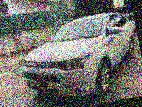car: (8, 3, 142, 107)
